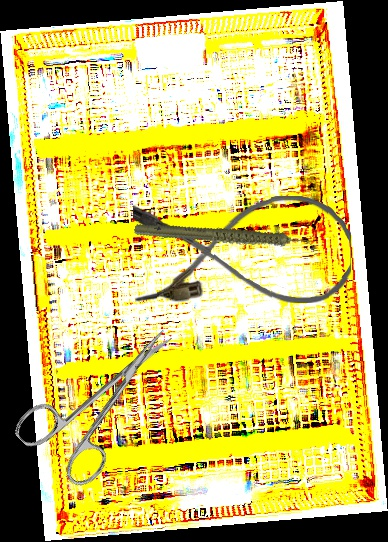Cannula: (133, 195, 352, 306)
Handpiece: (132, 186, 318, 291)
Iris Scissors: (9, 302, 204, 497)
